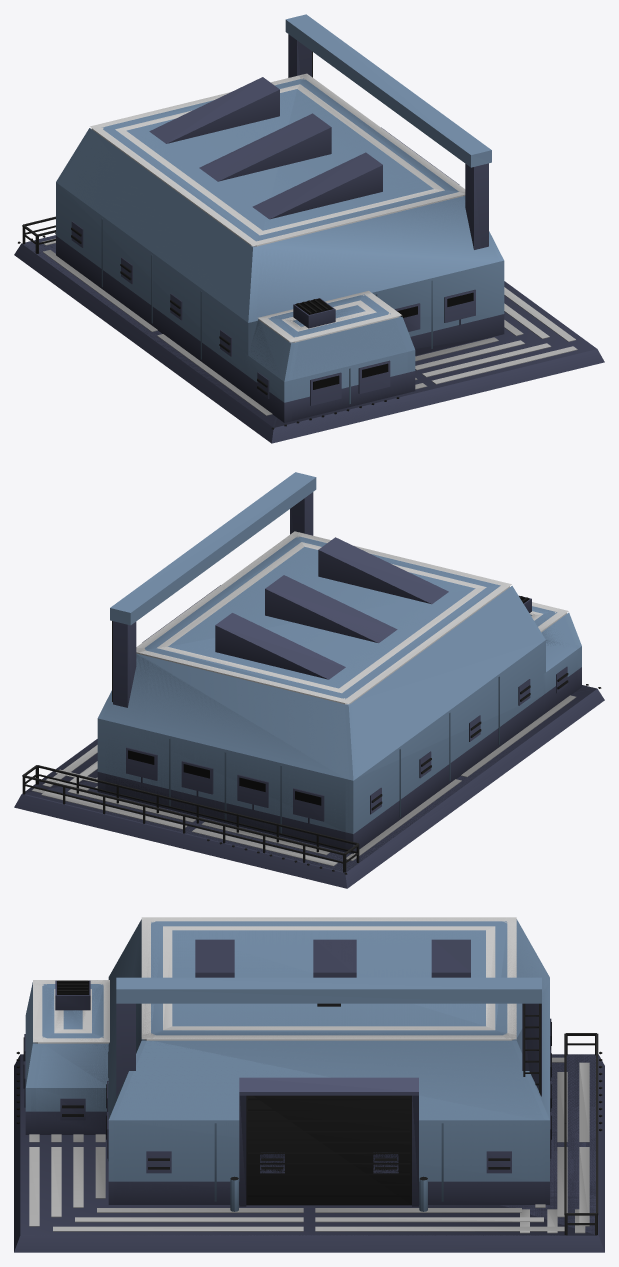
File: veyran_vehicle_factory.glb
The picture shows the model from 3 angles, top to bottom: view 1: azimuth 30°, elevation 25°; view 2: azimuth 150°, elevation 25°; view 3: azimuth 270°, elevation 25°; orthographic projection. The views are drawn at different scales.
Parts seen in each view (by area): view 1: body (×3); view 2: body (×3); view 3: body (×3).
Part boxes in pixels (<box>): body (×3): <box>14,14,604,443</box>; body (×3): <box>14,472,604,888</box>; body (×3): <box>14,917,604,1252</box>.
Bounding box in the file's own units: 11.2 × 6.3 × 15.
